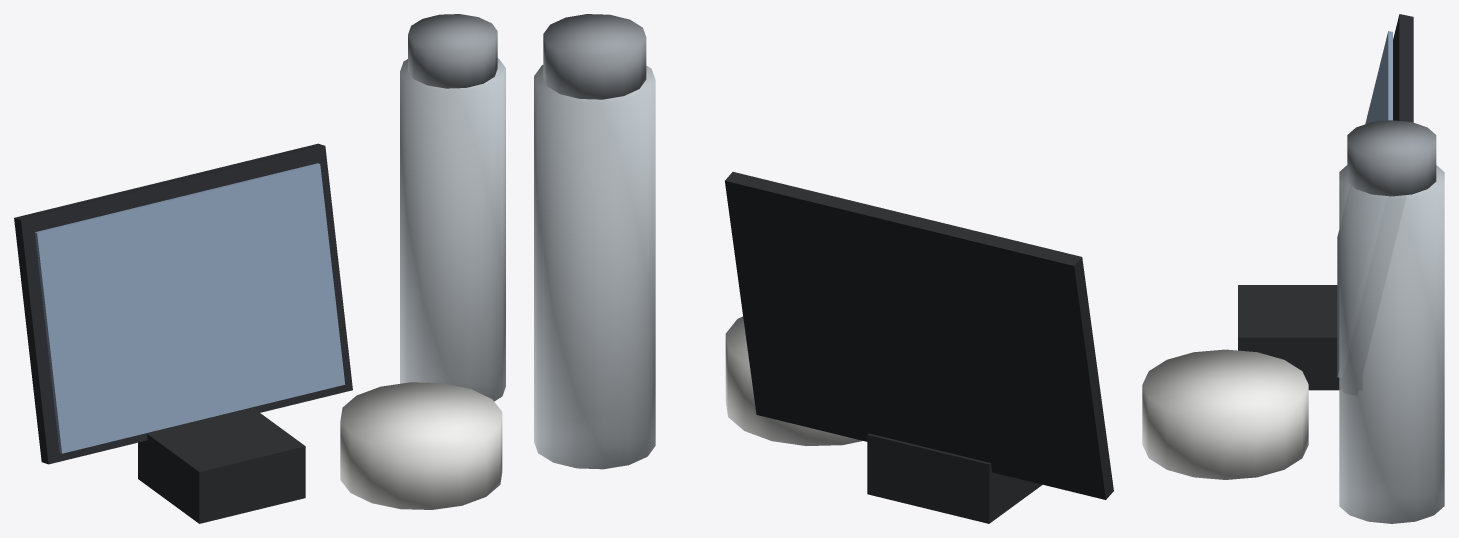
3 renders of one model, left to right at view 1: azimuth 30°, elevation 25°; view 2: azimuth 150°, elevation 25°; view 3: azimuth 270°, elevation 25°, orthographic. The views are drawn at different scales.
Parts seen in each view (by area): view 1: root; view 2: root; view 3: root.
Part boxes in pixels (<box>): root: <box>14,14,505,523</box>; root: <box>534,14,1113,523</box>; root: <box>1142,14,1444,523</box>.
Size of the model in its own units: 0.4084 by 0.2926 by 0.2215.
